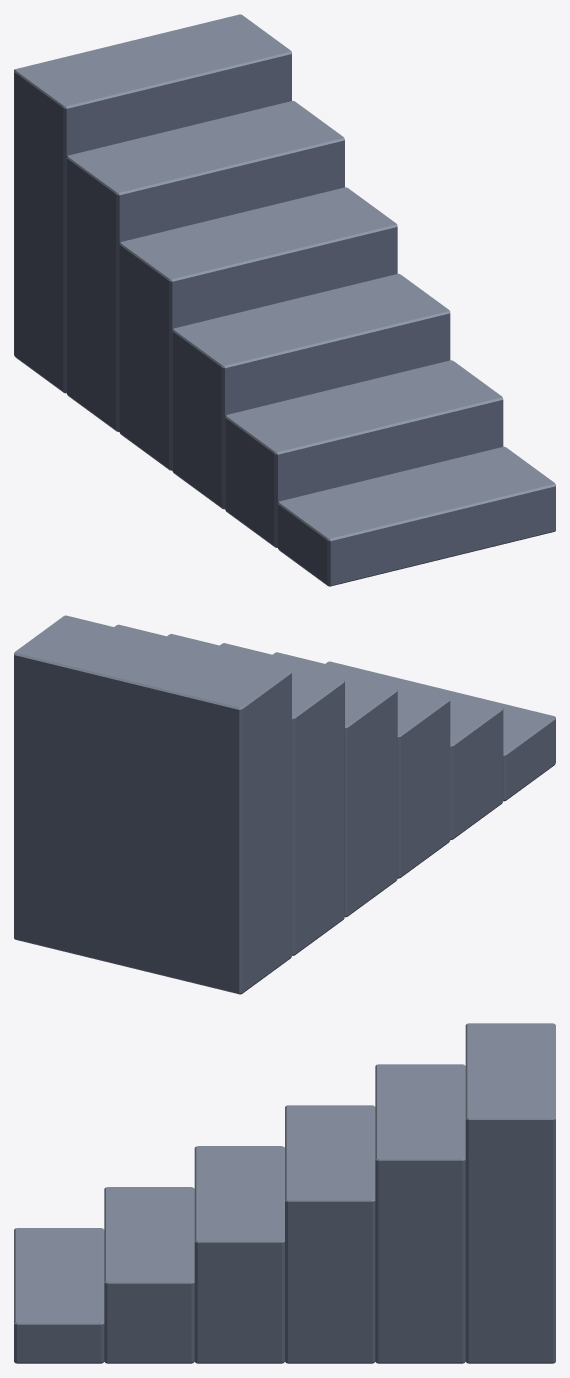
The model's file is stair-narrow.glb.
The picture shows the model from 3 angles, top to bottom: view 1: azimuth 30°, elevation 25°; view 2: azimuth 150°, elevation 25°; view 3: azimuth 270°, elevation 25°; orthographic projection. The views are drawn at different scales.
Parts seen in each view (by area): view 1: stair-narrow__body; view 2: stair-narrow__body; view 3: stair-narrow__body.
Boxes of the visible parts, x1=… form: stair-narrow__body: x1=14, y1=14, x2=555, y2=586; stair-narrow__body: x1=14, y1=615, x2=555, y2=994; stair-narrow__body: x1=14, y1=1023, x2=555, y2=1363.
Size of the model in its own units: 1 by 1.2 by 2.4.
